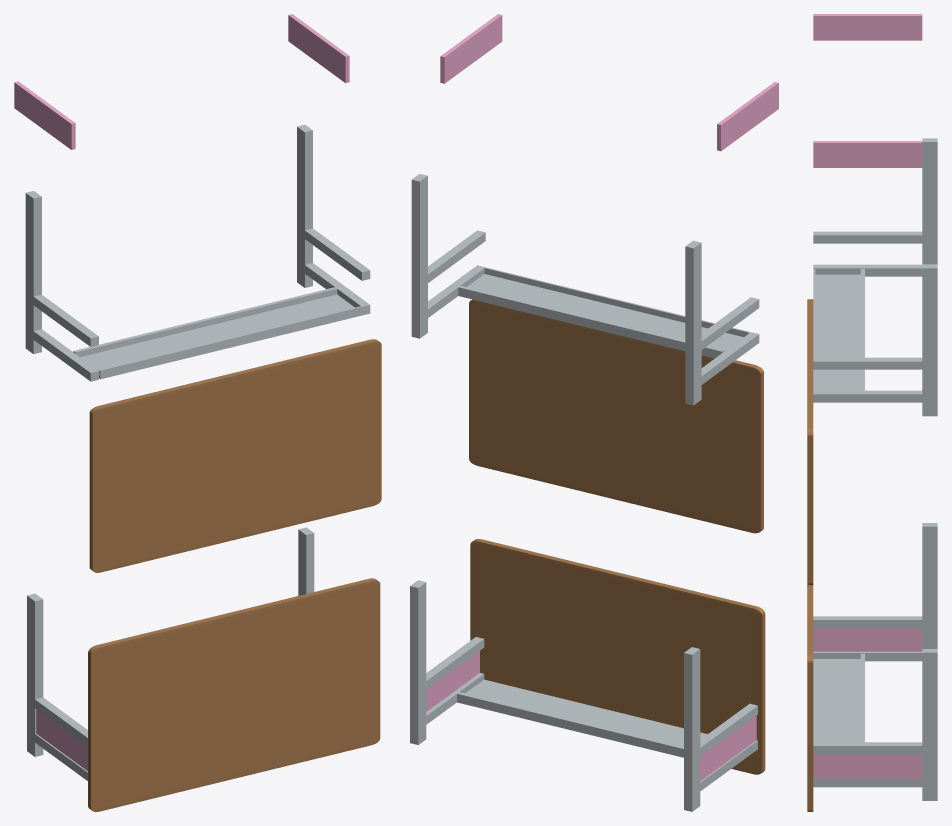
Rendered from tinker.obj.
3 views of the same model, side by side, from view 1: azimuth 30°, elevation 25°; view 2: azimuth 150°, elevation 25°; view 3: azimuth 270°, elevation 25° (orthographic). The views are drawn at different scales.
Parts seen in each view (by area): view 1: group_0_11107152, group_0_12568524, group_0_15708628; view 2: group_0_11107152, group_0_12568524, group_0_15708628; view 3: group_0_12568524, group_0_15708628, group_0_11107152.
Part boxes in pixels (x1=…): group_0_11107152: x1=88, y1=339, x2=381, y2=811; group_0_12568524: x1=25, y1=124, x2=370, y2=780; group_0_15708628: x1=14, y1=14, x2=349, y2=770; group_0_11107152: x1=469, y1=299, x2=765, y2=774; group_0_12568524: x1=410, y1=174, x2=759, y2=811; group_0_15708628: x1=426, y1=14, x2=778, y2=780; group_0_12568524: x1=813, y1=138, x2=937, y2=800; group_0_15708628: x1=813, y1=14, x2=922, y2=778; group_0_11107152: x1=807, y1=299, x2=813, y2=811.
Size of the model in its own units: 112 by 240 by 43.
